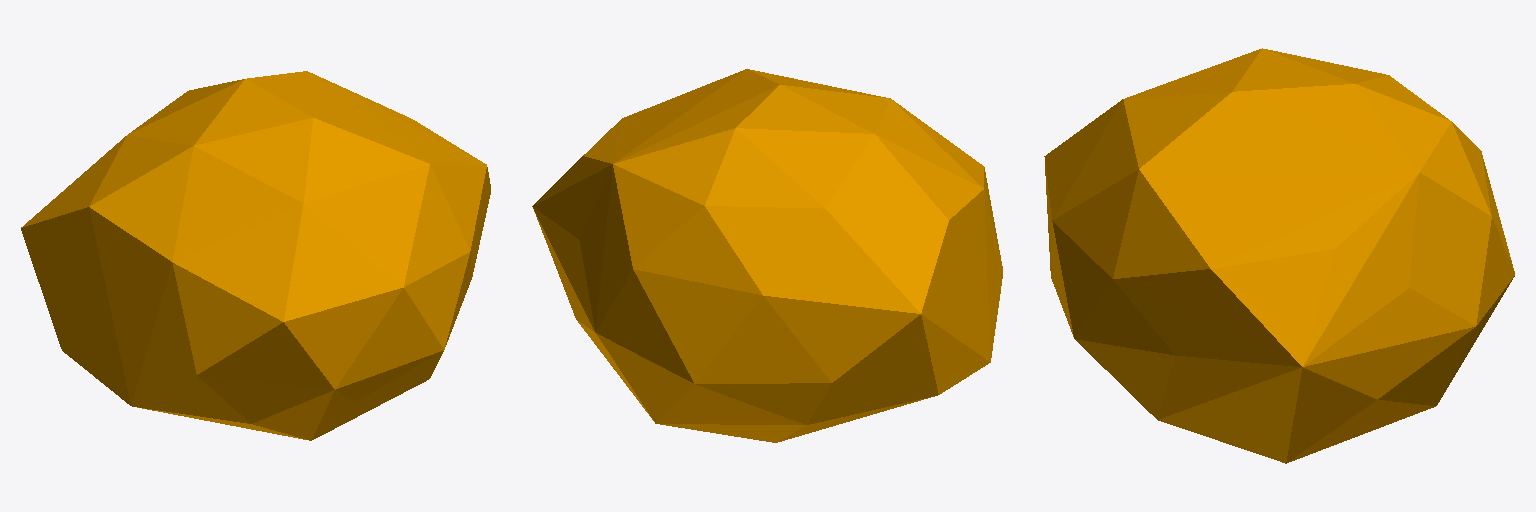
robot.urdf — ic643:
<?xml version="1.0"?>
<robot name="ic643">
  <link name="link">
    <contact>
      <lateral_friction value="0.6"/>
    </contact>
    <inertial>
      <mass value = "0.479682479809124"/>
      <inertia ixx="0.00024197862292185118" ixy="1.5670109524204556e-20" ixz="6.757734732313215e-20" iyy="0.0002678109253311883" iyz="-1.9587636905255695e-20" izz="0.0003191303382532873" />
    </inertial>
    <visual name="visual">
      <geometry>
        <mesh filename="ic643.obj"/>
      </geometry>
    </visual>
    <collision name="collision">
      <geometry>
        <mesh filename="ic643.obj"/>
      </geometry>
    </collision>
  </link>
</robot>

--- Facts derived from the render (not from the file) ---
Views: 3 orthographic renders of the robot side by side, from view 1: azimuth 30°, elevation 25°; view 2: azimuth 150°, elevation 25°; view 3: azimuth 270°, elevation 25°.
Model ic643 with 1 links and 0 joints (none), rooted at link, posed every joint at zero.
Links seen in each view (by area): view 1: link; view 2: link; view 3: link.
Link boxes in pixels (left/top/right/bottom): link: left=21, top=71, right=490, bottom=440; link: left=532, top=69, right=1002, bottom=442; link: left=1044, top=48, right=1514, bottom=463.
Bounding box of the posed robot: 0.0933 × 0.081 × 0.0658 m (x, y, z).
Meshes: 1 distinct files referenced, 1 mesh visuals loaded (1 OBJ).
